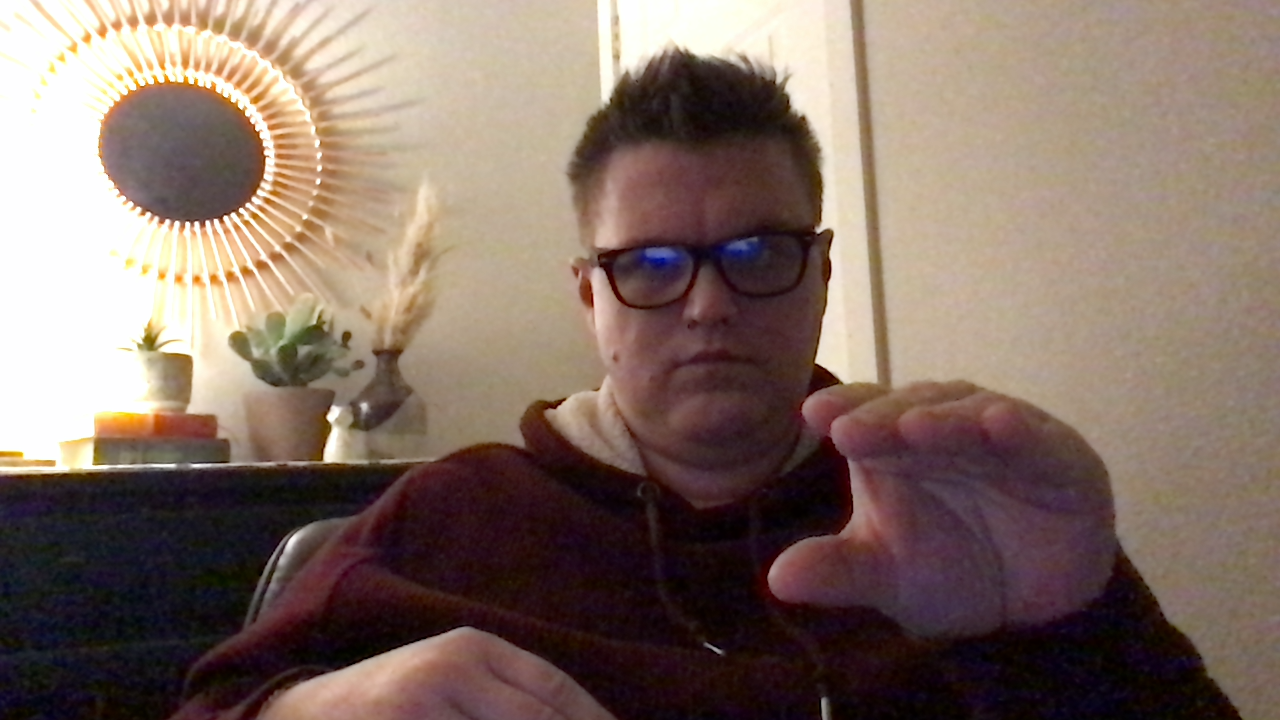no: (771, 373, 1151, 639)
